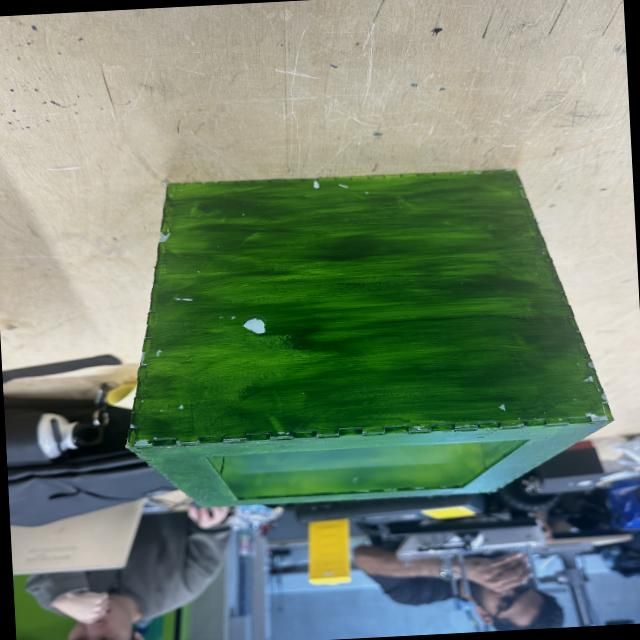green_bin: (113, 160, 616, 511)
